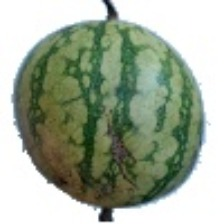watermelon: (22, 26, 204, 223)
